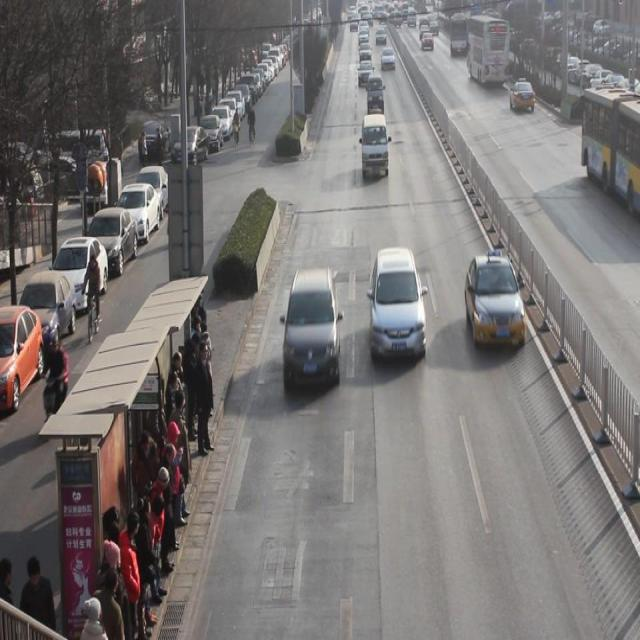car: (282, 268, 342, 393), (370, 246, 427, 362), (466, 256, 527, 350), (510, 80, 536, 112), (358, 60, 375, 89), (381, 47, 396, 73)
truck: (362, 113, 389, 182), (367, 72, 385, 116)
van: (580, 86, 640, 213), (464, 14, 508, 87)
